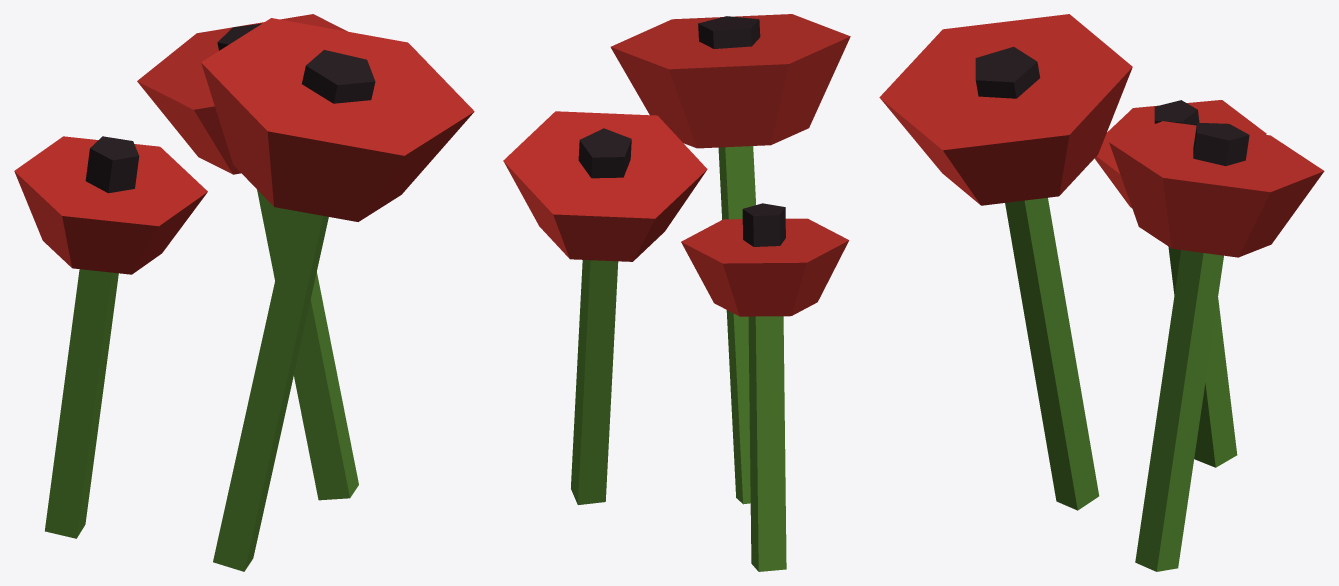
The model's file is p_flower_2.glb.
The picture shows the model from 3 angles, left to right: view 1: azimuth 30°, elevation 25°; view 2: azimuth 150°, elevation 25°; view 3: azimuth 270°, elevation 25°; orthographic projection. The views are drawn at different scales.
Parts seen in each view (by area): view 1: body; view 2: body; view 3: body.
Boxes of the visible parts, x1,y1,x2,y2 form: body: [14, 14, 474, 571]; body: [503, 14, 850, 571]; body: [879, 14, 1324, 571].
Size of the model in its own units: 0.351 by 0.5287 by 0.4519.
